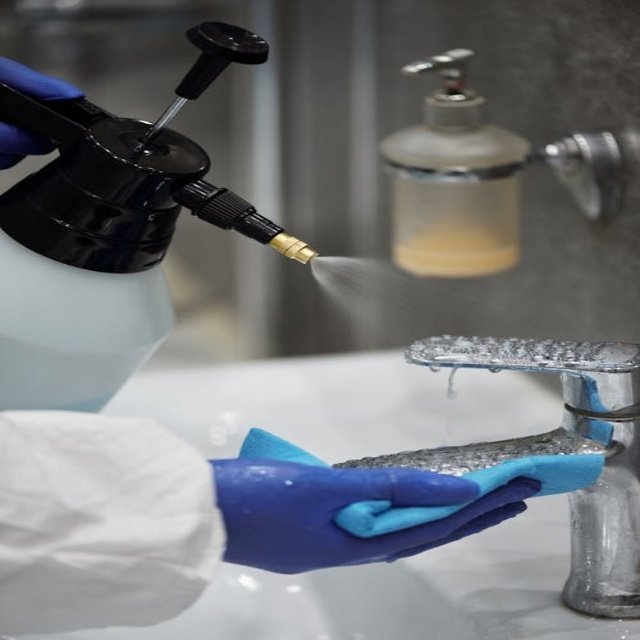Guantes: (209, 437, 550, 575), (0, 50, 89, 172)
